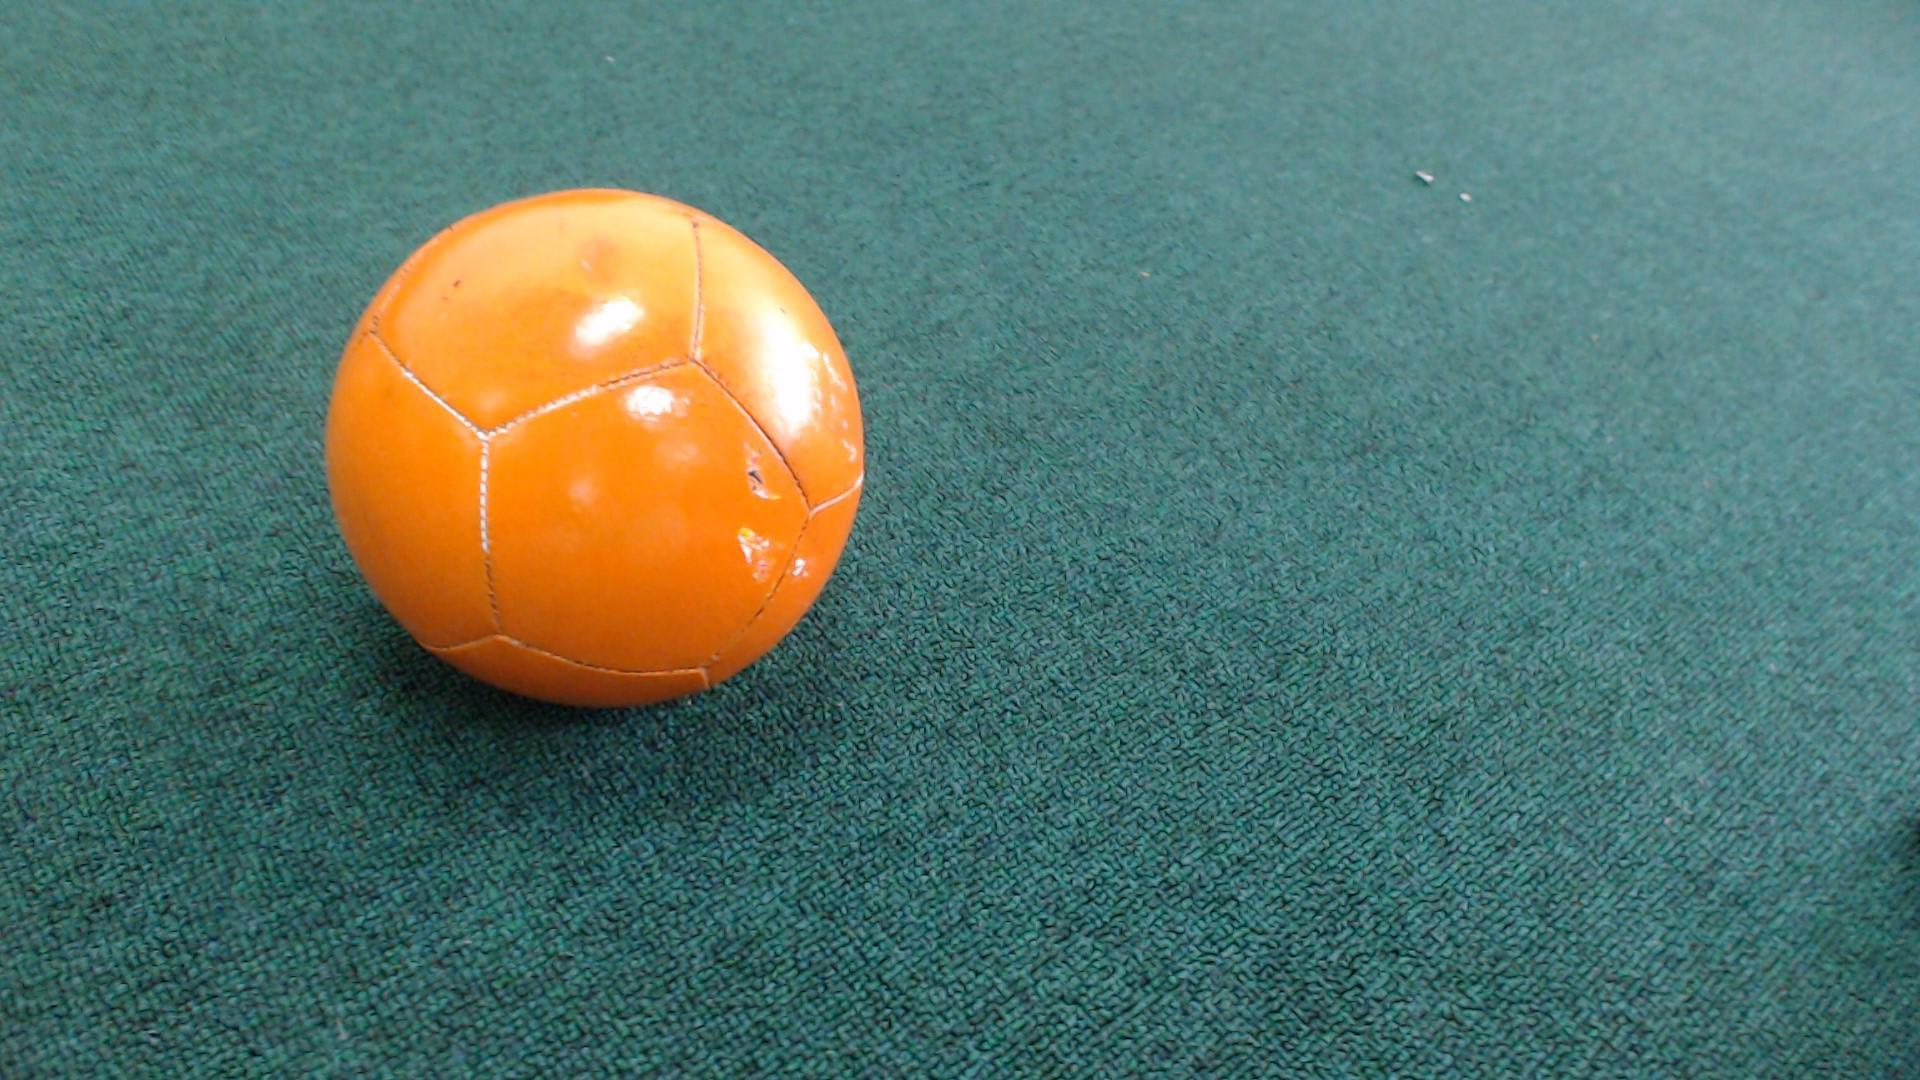bola: (309, 156, 924, 744)
